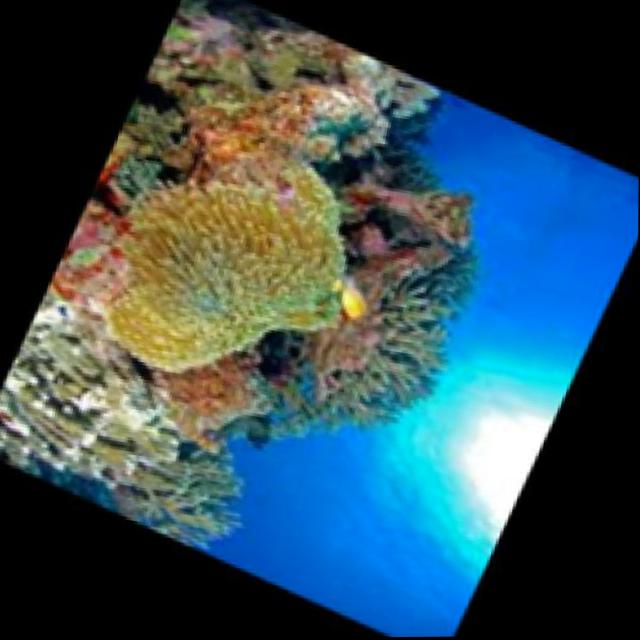Healthy Coral: (85, 111, 383, 412), (293, 169, 533, 477)
